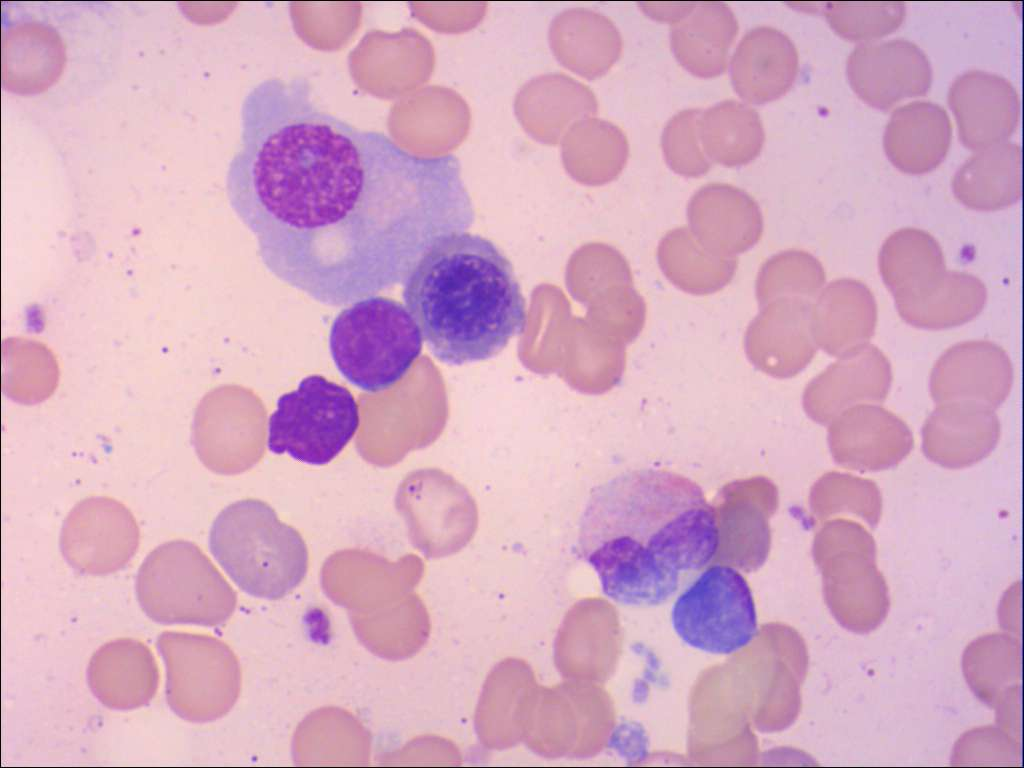24: (398, 230, 529, 369)
32: (327, 295, 426, 395)
4: (573, 463, 727, 610)
51: (223, 71, 478, 311)
x: (265, 372, 363, 468), (667, 562, 761, 659)
